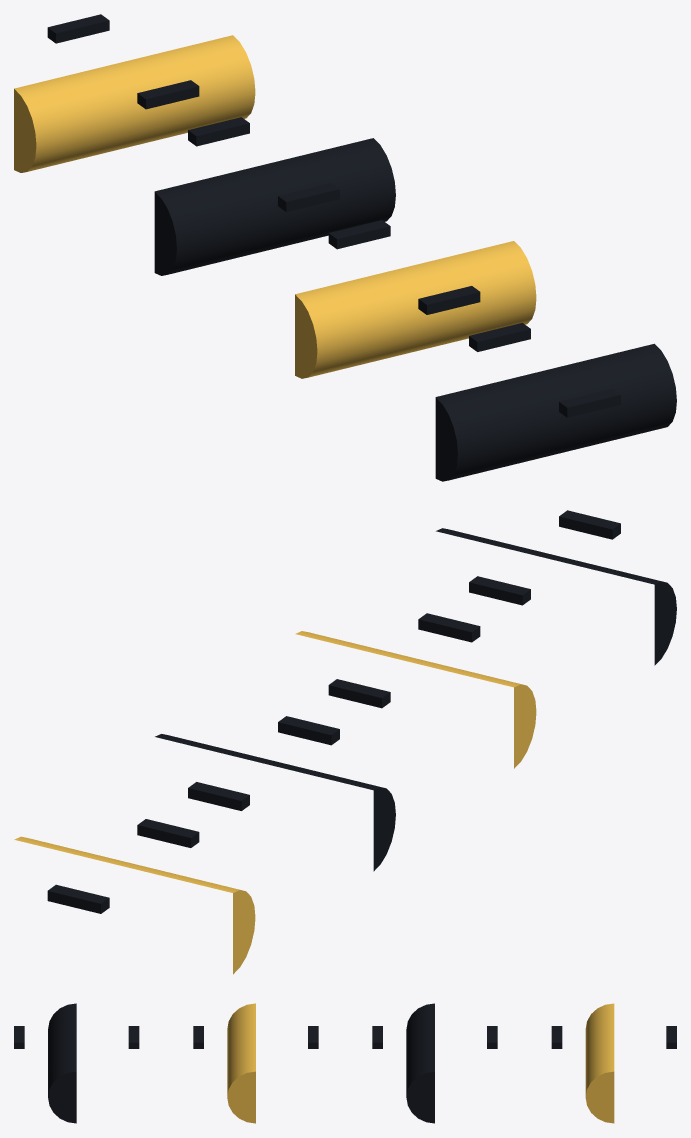
File: sausage_kerb_4m.glb
3 renders of one model, top to bottom at view 1: azimuth 30°, elevation 25°; view 2: azimuth 150°, elevation 25°; view 3: azimuth 270°, elevation 25°, orthographic. The views are drawn at different scales.
Parts seen in each view (by area): view 1: sausage; view 2: sausage; view 3: sausage.
Boxes of the visible parts, x1,y1,x2,y2 form: sausage: (14,14,676,481); sausage: (14,510,676,974); sausage: (14,1003,676,1123).
Bounding box in the file's own units: 0.9 × 0.34 × 3.7.
